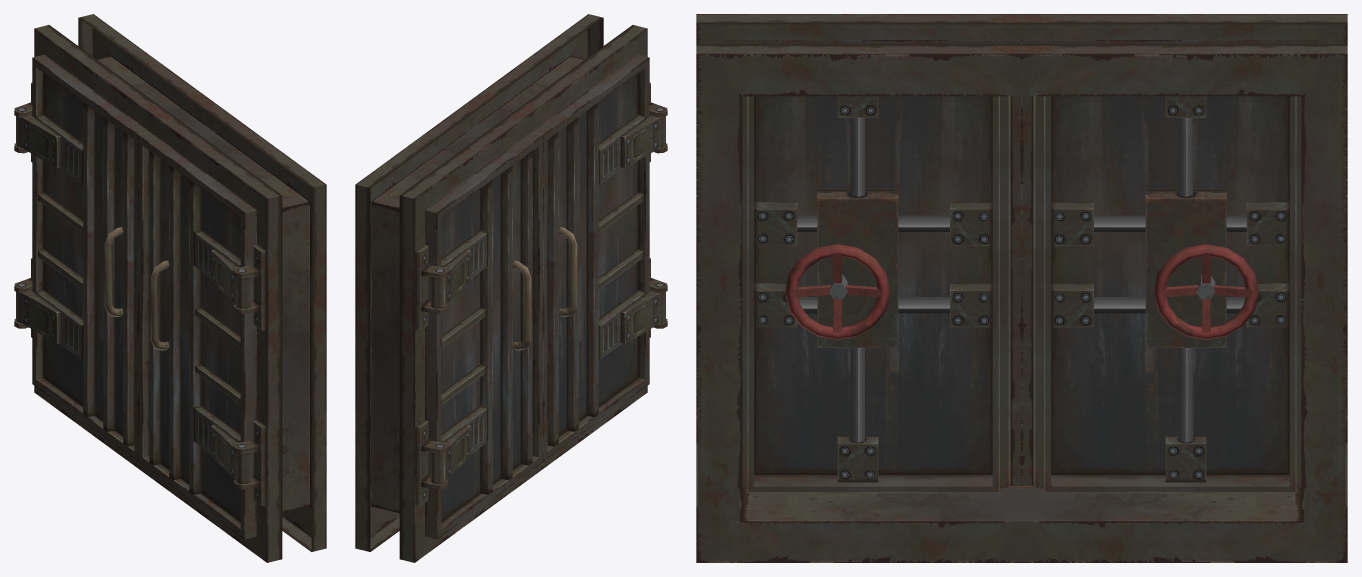
File: door_bunker01_B.FBX
3 views of the same model, side by side, from view 1: azimuth 30°, elevation 25°; view 2: azimuth 150°, elevation 25°; view 3: azimuth 270°, elevation 25° (orthographic). The views are drawn at different scales.
Visible parts, largest first — view 1: door_bunker01_B_frame, door_bunker01_B_R, door_bunker01_B_L; view 2: door_bunker01_B_frame, door_bunker01_B_L, door_bunker01_B_R; view 3: door_bunker01_B_frame, door_bunker01_B_L, door_bunker01_B_R.
Boxes of the visible parts, left/top/right/bottom form: door_bunker01_B_frame: left=14, top=14, right=326, bottom=562; door_bunker01_B_R: left=138, top=132, right=256, bottom=539; door_bunker01_B_L: left=16, top=54, right=150, bottom=461; door_bunker01_B_frame: left=355, top=14, right=667, bottom=562; door_bunker01_B_L: left=425, top=132, right=543, bottom=539; door_bunker01_B_R: left=531, top=54, right=665, bottom=461; door_bunker01_B_frame: left=696, top=14, right=1347, bottom=562; door_bunker01_B_L: left=1022, top=40, right=1318, bottom=493; door_bunker01_B_R: left=725, top=40, right=1021, bottom=493.
Size of the model in its own units: 57.44 by 235 by 273.
